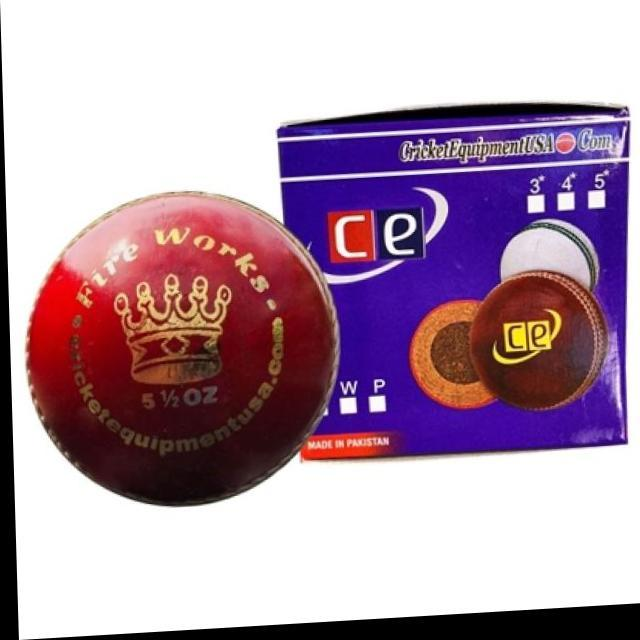cricket ball: (23, 191, 337, 510)
